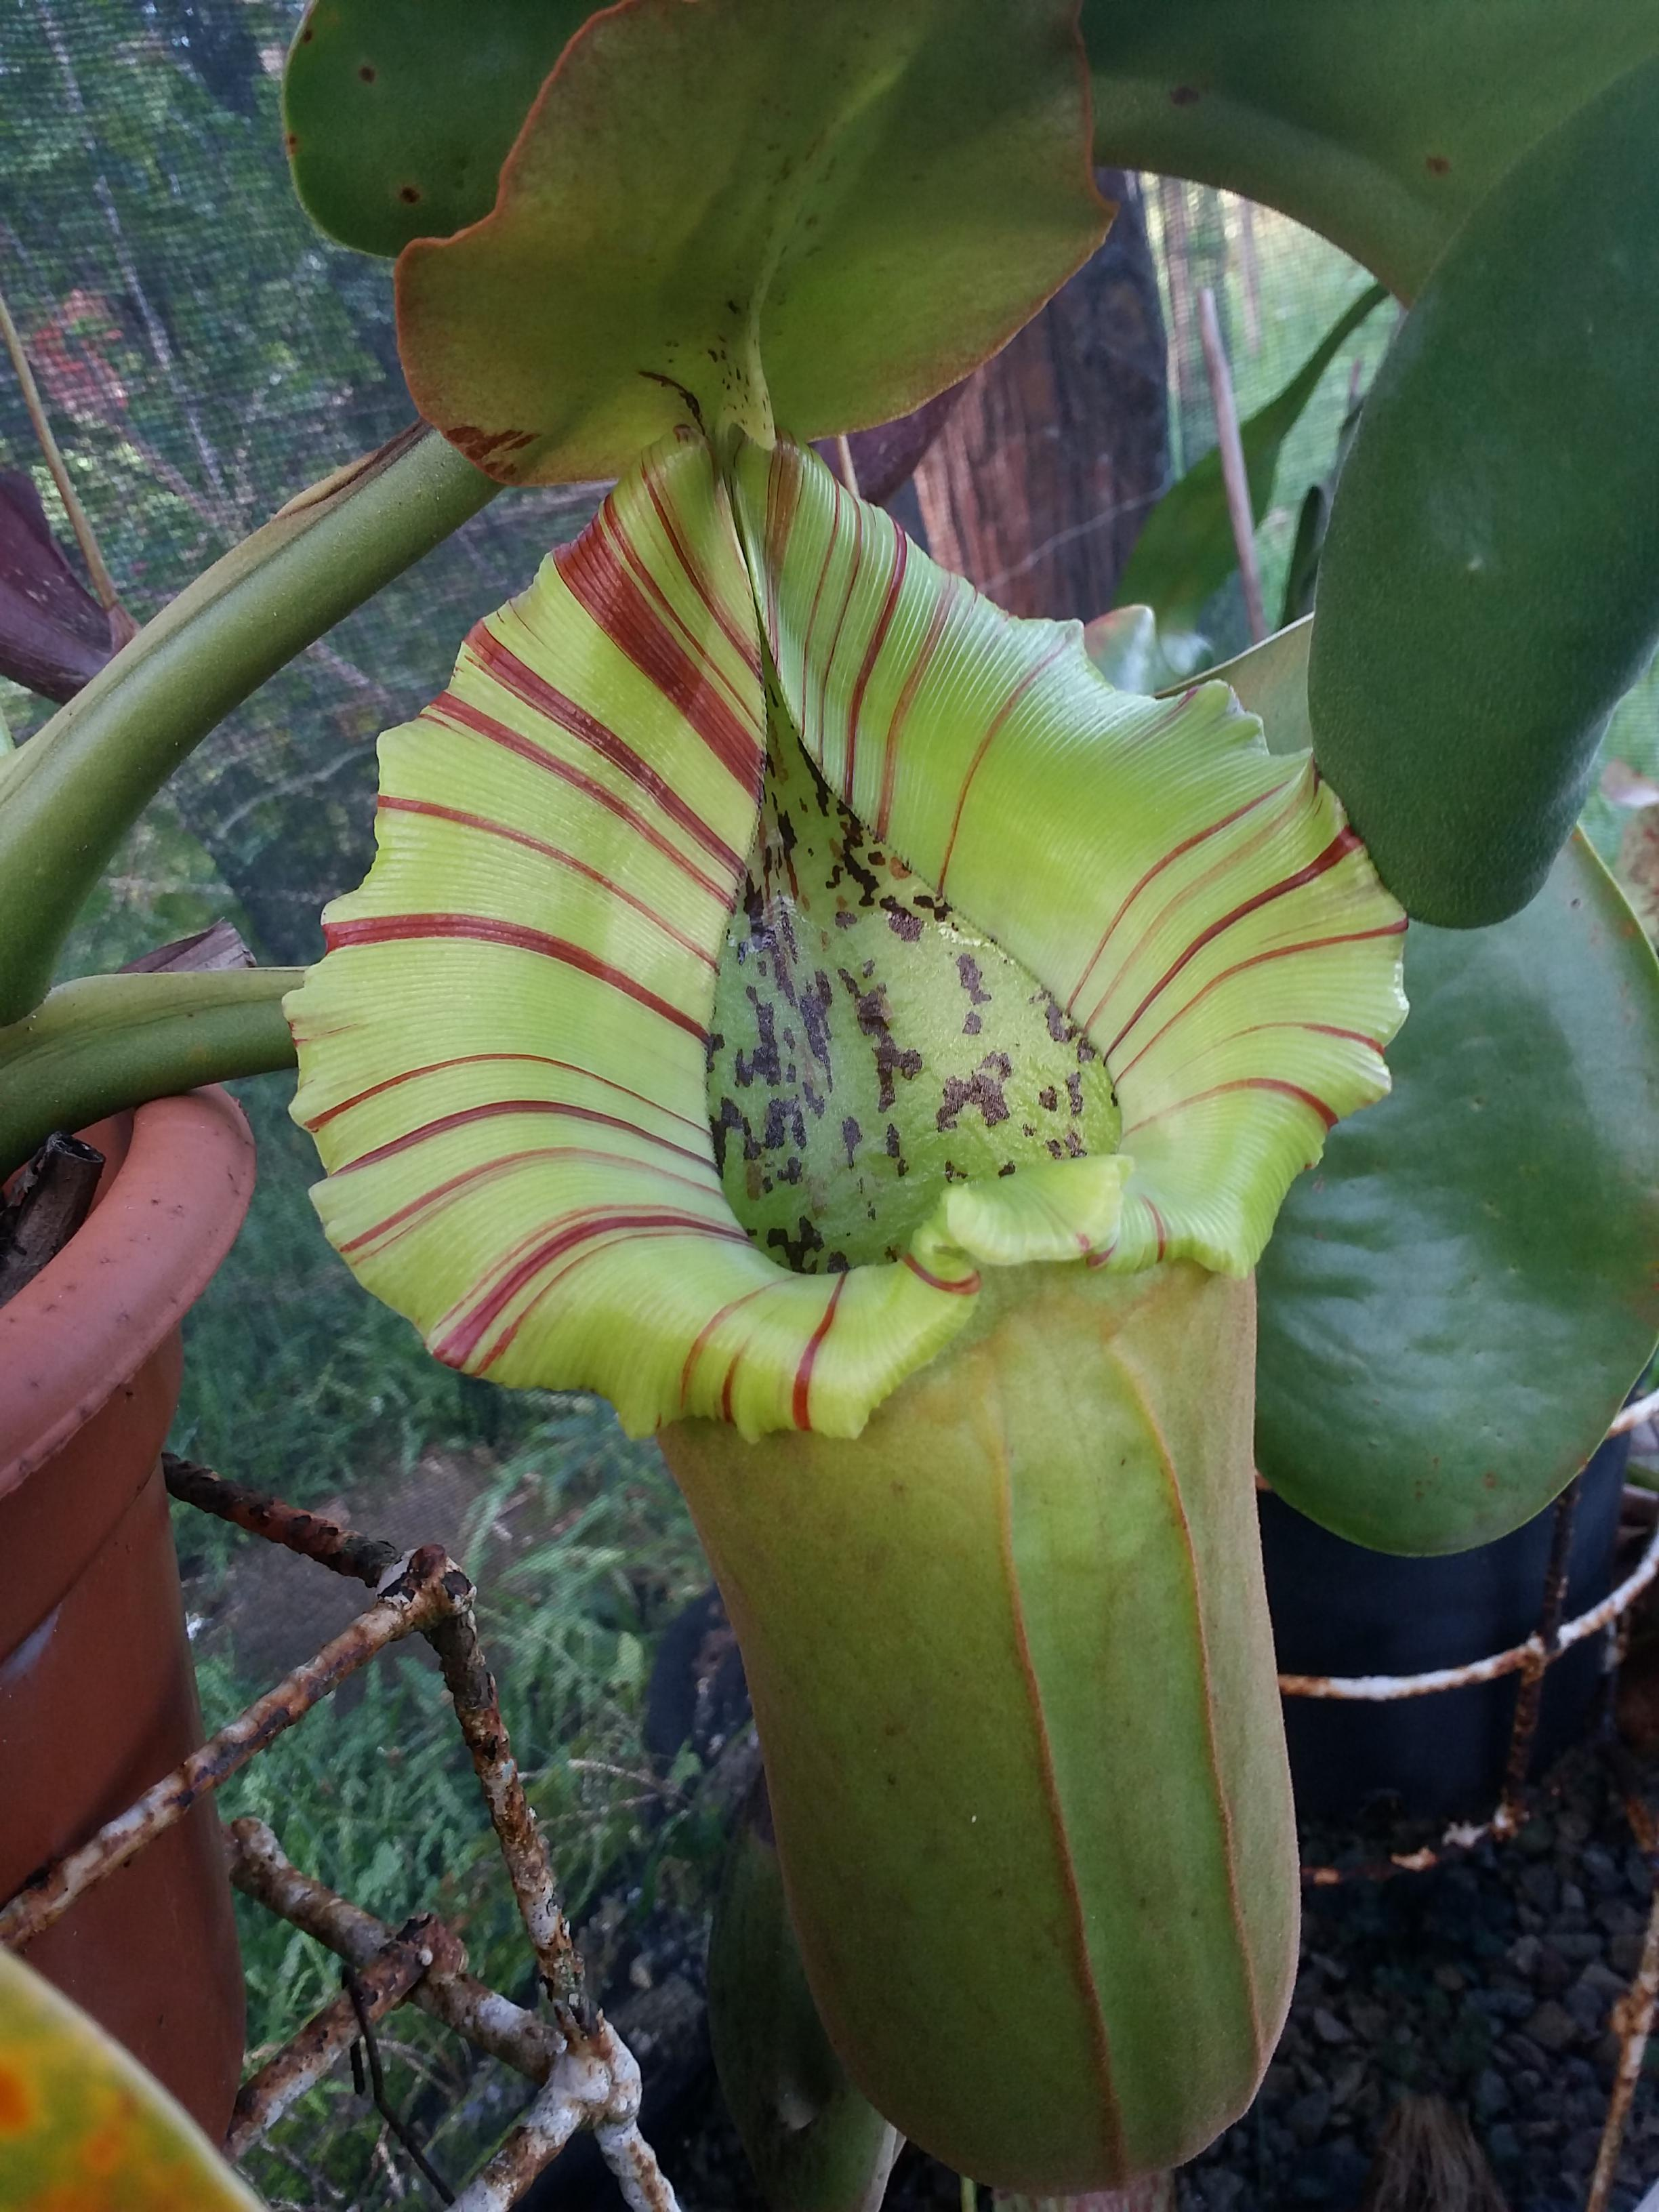truncata: (230, 52, 1530, 2209)
